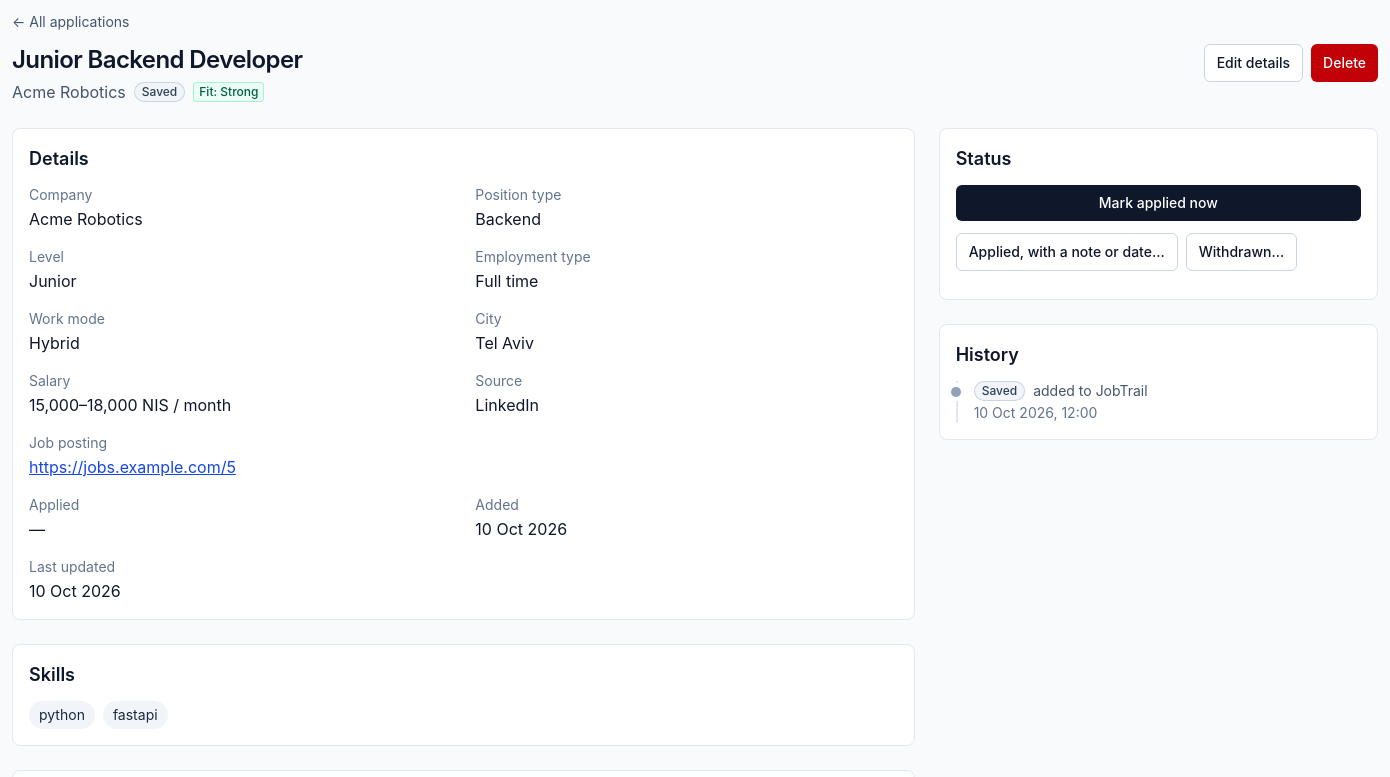
ApplicationDetailPage › marks a saved application as applied with one click and refreshes
Click the button "Mark applied now".
click(1158, 203)  # box [956,185,1361,221]
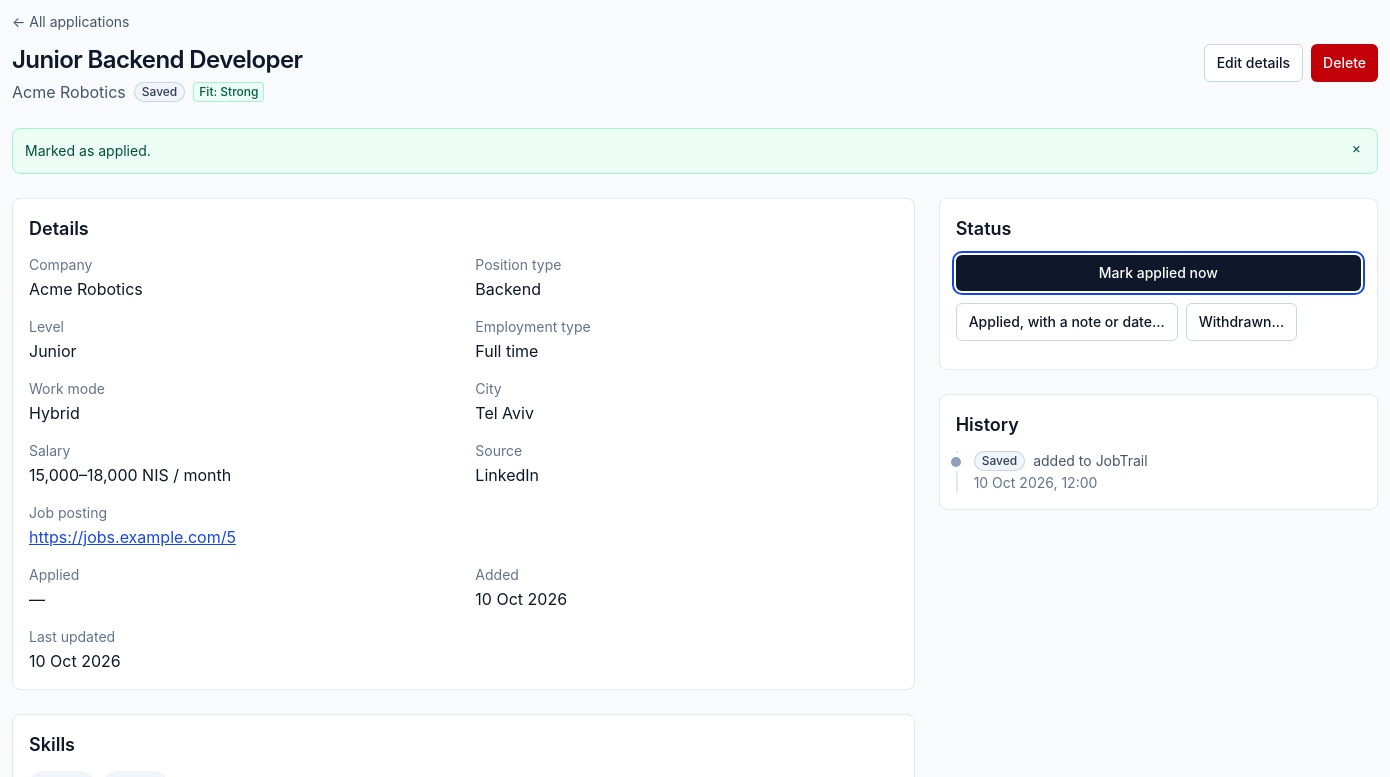
Result: the text "Marked as applied." is shown at [25,142,151,159]
